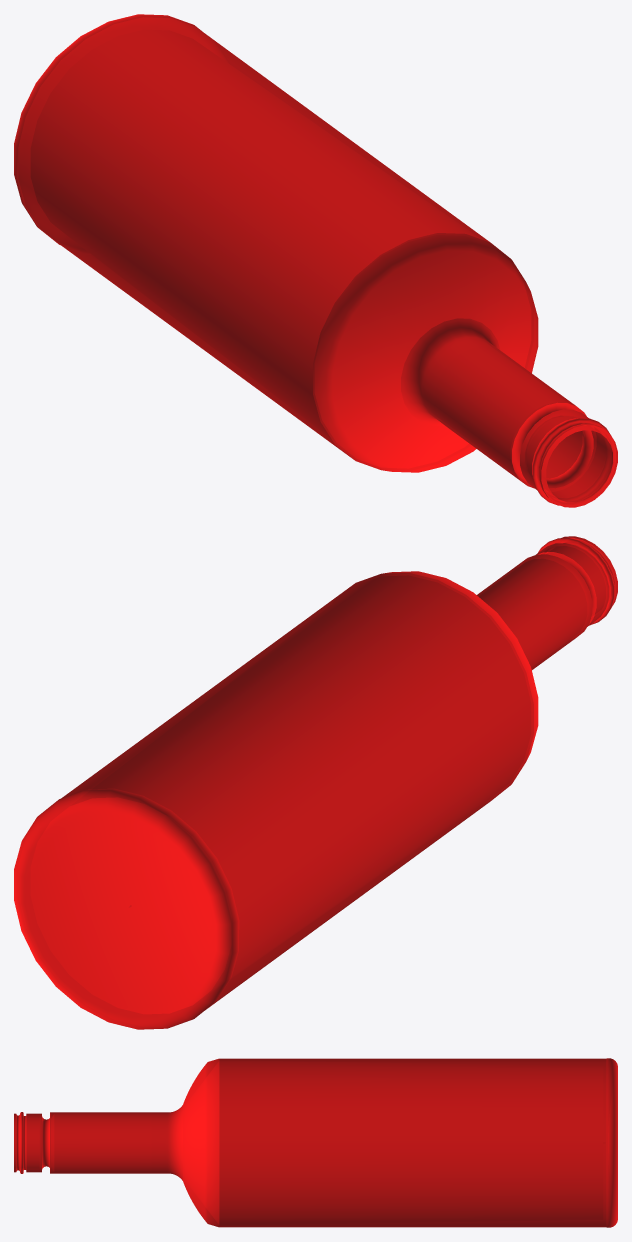
File: model_scale.obj
The picture shows the model from 3 angles, top to bottom: view 1: azimuth 30°, elevation 25°; view 2: azimuth 150°, elevation 25°; view 3: azimuth 270°, elevation 25°; orthographic projection. The views are drawn at different scales.
Visible parts, largest first — view 1: mesh1_mesh1-geometry; view 2: mesh1_mesh1-geometry; view 3: mesh1_mesh1-geometry.
Part boxes in pixels (x1,y1,x2,y2): mesh1_mesh1-geometry: (14, 14, 617, 507); mesh1_mesh1-geometry: (14, 536, 617, 1029); mesh1_mesh1-geometry: (14, 1058, 617, 1227).
Bounding box in the file's own units: 0.0777 × 0.0777 × 0.279.
